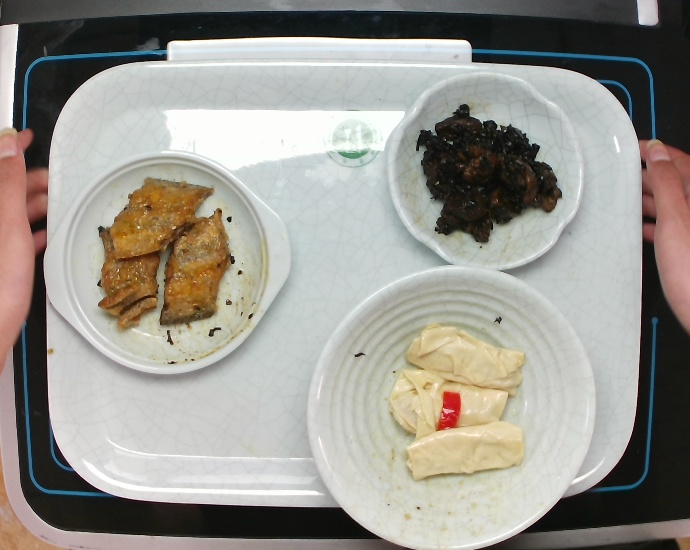JYsf-Ao_Yuan_Wan: (383, 70, 586, 272)
JYsf-Shuang_Er_Pan: (40, 147, 295, 377)
JYsf-Xiao_Tang_Wan: (303, 264, 600, 550)
